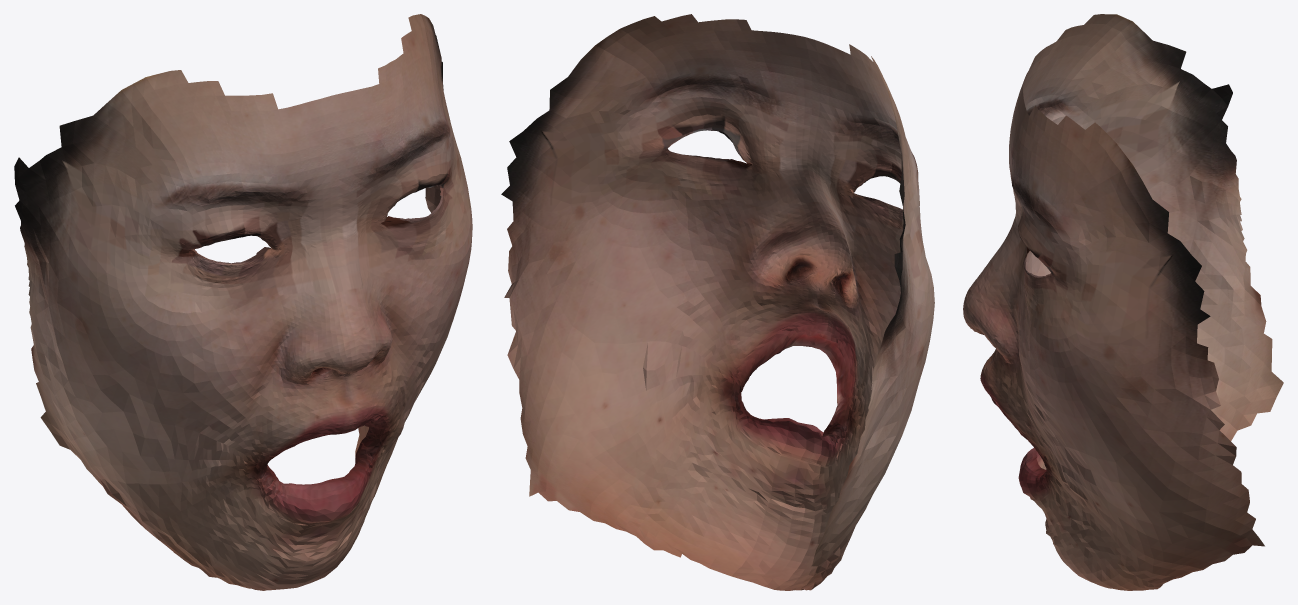
File: 3_mouth_stretch.obj
3 views of the same model, side by side, from view 1: azimuth 30°, elevation 25°; view 2: azimuth 150°, elevation 25°; view 3: azimuth 270°, elevation 25° (orthographic). The views are drawn at different scales.
Size of the model in its own units: 169 by 212 by 120.
1 material, 1 textured.
